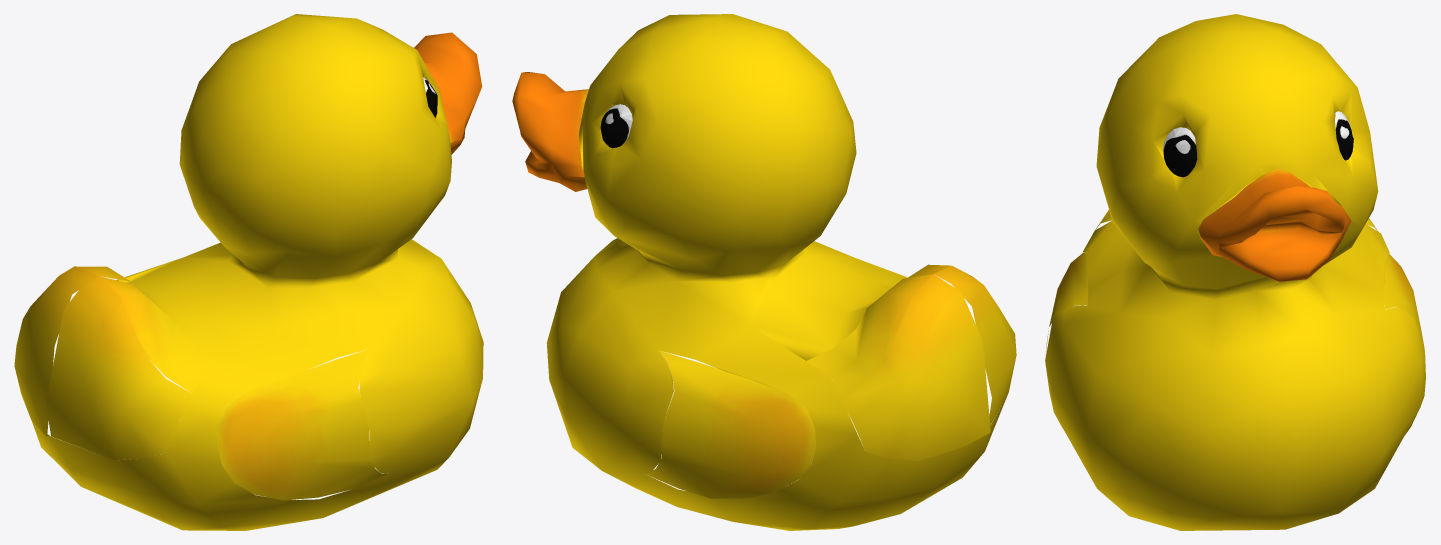
File: Duck_opt_mcp.glb
3 views of the same model, side by side, from view 1: azimuth 30°, elevation 25°; view 2: azimuth 150°, elevation 25°; view 3: azimuth 270°, elevation 25° (orthographic). The views are drawn at different scales.
Visible parts, largest first — view 1: LOD3spShape; view 2: LOD3spShape; view 3: LOD3spShape.
Boxes of the visible parts, box(x1,y1,x2,y2) form: LOD3spShape: box(14, 14, 483, 530); LOD3spShape: box(512, 14, 1016, 530); LOD3spShape: box(1045, 14, 1425, 530).
Size of the model in its own units: 1.66 by 1.54 by 1.16.
1 material, 1 textured.
